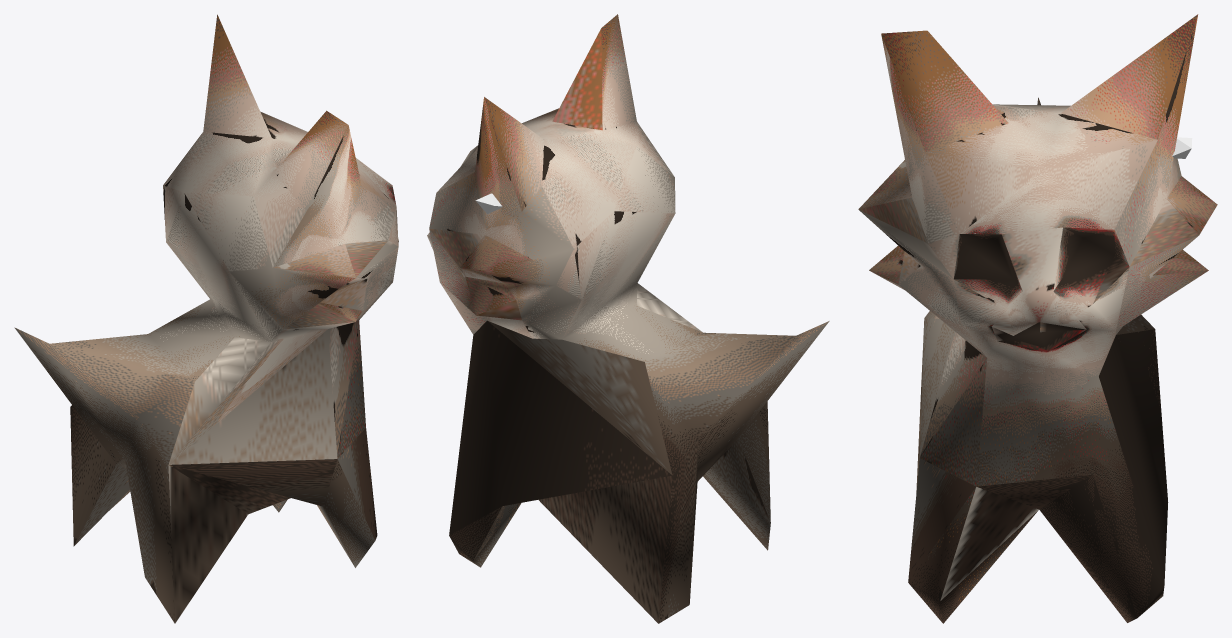
File: car_ingame_-_garn47.glb
3 renders of one model, left to right at view 1: azimuth 30°, elevation 25°; view 2: azimuth 150°, elevation 25°; view 3: azimuth 270°, elevation 25°, orthographic. The views are drawn at different scales.
Parts seen in each view (by area): view 1: Car2; view 2: Car2; view 3: Car2.
Boxes of the visible parts, x1,y1,x2,y2 form: Car2: (14, 14, 398, 623); Car2: (427, 14, 829, 623); Car2: (858, 14, 1217, 623).
Bounding box in the file's own units: 0.9631 × 1.19 × 0.6585.
Materials: 2 (1 with a texture image).
